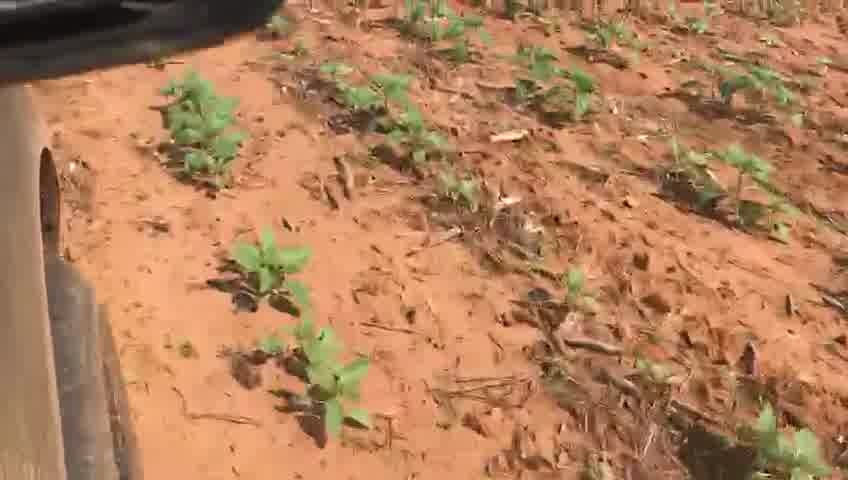sunflower: (286, 322, 380, 440), (714, 407, 834, 475), (229, 234, 315, 311), (701, 145, 779, 229), (163, 116, 248, 187), (713, 67, 807, 118), (161, 72, 235, 135), (372, 114, 450, 165), (345, 72, 418, 126), (440, 13, 495, 64), (514, 47, 563, 92), (563, 70, 601, 120)
